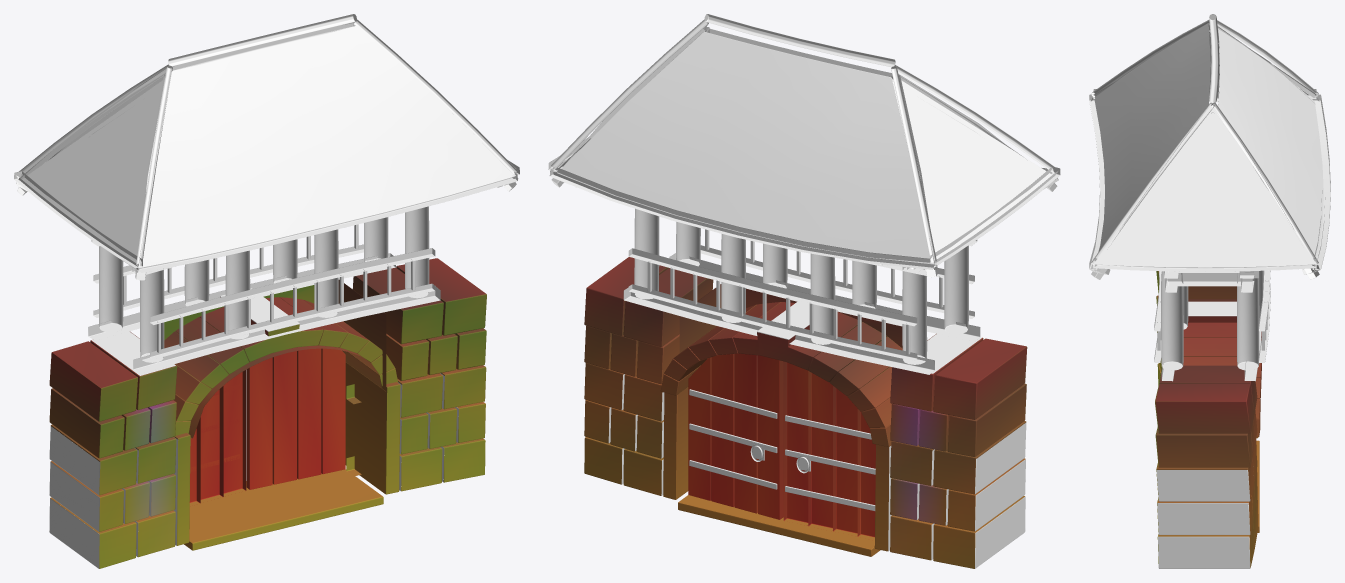
File: gatehouse.glb
3 views of the same model, side by side, from view 1: azimuth 30°, elevation 25°; view 2: azimuth 150°, elevation 25°; view 3: azimuth 270°, elevation 25° (orthographic). The views are drawn at different scales.
Visible parts, largest first — view 1: gatehouse, gatehouse-door-r, gatehouse-door-l; view 2: gatehouse, gatehouse-door-r, gatehouse-door-l; view 3: gatehouse.
Part boxes in pixels (x1,y1,x2,y2): gatehouse: [14, 14, 519, 568]; gatehouse-door-r: [246, 348, 345, 489]; gatehouse-door-l: [189, 370, 246, 503]; gatehouse: [548, 14, 1060, 568]; gatehouse-door-r: [688, 353, 783, 519]; gatehouse-door-l: [783, 361, 875, 537]; gatehouse: [1089, 14, 1330, 568].
Bounding box in the file's own units: 7.18 × 8.39 × 4.22.
